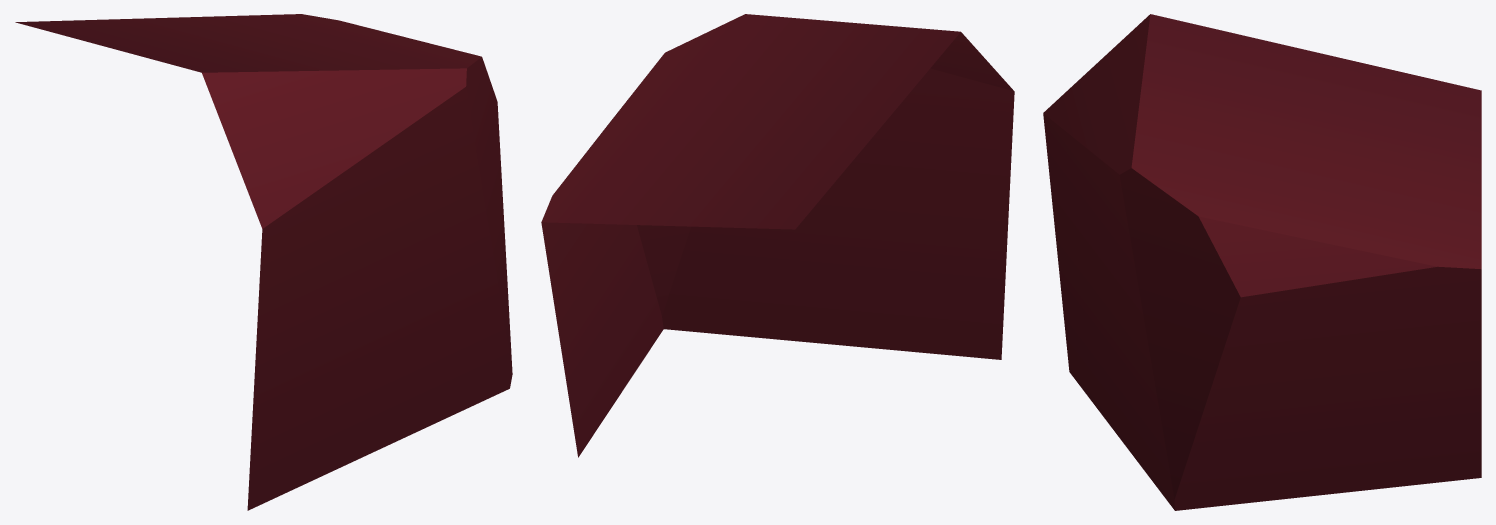
File: fragment_1.obj
The picture shows the model from 3 angles, left to right: view 1: azimuth 30°, elevation 25°; view 2: azimuth 150°, elevation 25°; view 3: azimuth 270°, elevation 25°; orthographic projection. The views are drawn at different scales.
Visible parts, largest first — view 1: BossFragment1; view 2: BossFragment1; view 3: BossFragment1.
Part boxes in pixels (x1,y1,x2,y2): BossFragment1: (15,14,512,510); BossFragment1: (541,14,1014,457); BossFragment1: (1043,14,1481,510).
Bounding box in the file's own units: 1.11 × 1.24 × 1.38.
Materials: 1 (1 with a texture image).
